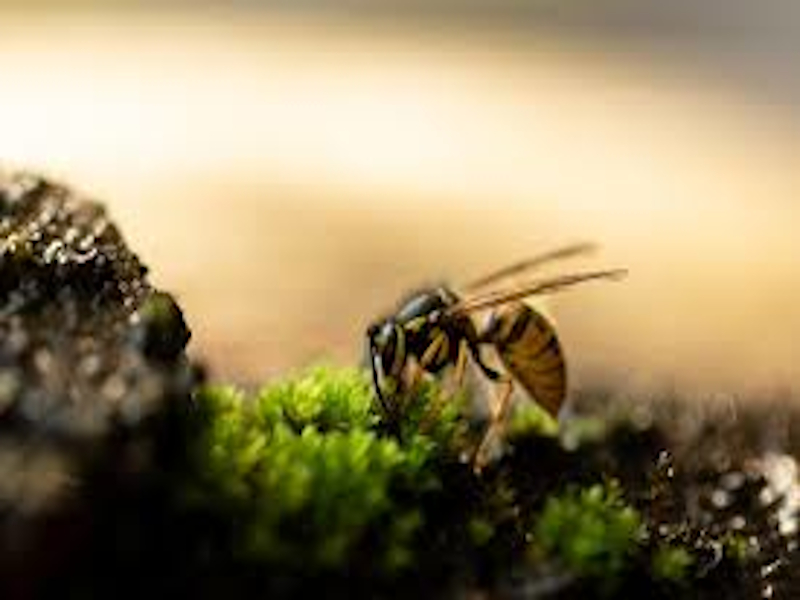chax: (343, 208, 622, 473)
